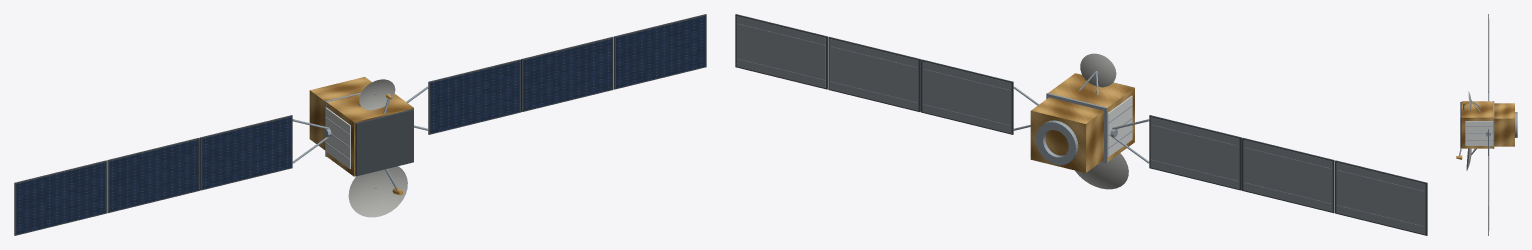
The model's file is ref-eurostar-2000-21813.glb.
The picture shows the model from 3 angles, left to right: view 1: azimuth 30°, elevation 25°; view 2: azimuth 150°, elevation 25°; view 3: azimuth 270°, elevation 25°; orthographic projection. The views are drawn at different scales.
Visible parts, largest first — view 1: Solar cell panel (×6), Solar panel frame (×6), Earth-facing deck, Communications reflector (×2), Payload module, Service module, Radiator face; view 2: Rear array substrate (×6), Solar panel frame (×6), Service module, Communications reflector (×2), Payload module, Launch adapter ring, Radiator face, Module interface; view 3: Service module, Payload module, Radiator face, Communications reflector (×2), Module interface, Earth-facing deck, Launch adapter ring, Solar panel frame.
Part boxes in pixels (x1,y1,x2,y2): Solar cell panel (×6): (16, 16, 705, 234); Solar panel frame (×6): (14, 14, 706, 235); Earth-facing deck: (355, 109, 413, 176); Communications reflector (×2): (348, 79, 407, 217); Payload module: (326, 94, 413, 176); Service module: (309, 77, 371, 150); Radiator face: (325, 107, 350, 168); Rear array substrate (×6): (736, 16, 1425, 234); Solar panel frame (×6): (735, 14, 1427, 235); Service module: (1030, 97, 1103, 172); Communications reflector (×2): (1075, 53, 1128, 189); Payload module: (1048, 73, 1134, 161); Launch adapter ring: (1036, 120, 1078, 165); Radiator face: (1107, 95, 1132, 157); Module interface: (1046, 93, 1107, 163); Service module: (1494, 103, 1514, 146); Payload module: (1461, 101, 1492, 148); Radiator face: (1465, 121, 1493, 145); Communications reflector (×2): (1466, 91, 1471, 170); Module interface: (1493, 101, 1494, 148); Earth-facing deck: (1460, 102, 1461, 147); Launch adapter ring: (1515, 112, 1517, 137); Solar panel frame: (1488, 180, 1488, 235).
Bounding box in the file's own units: 21.97 × 4.11 × 2.97.
Materials: 8 (2 with a texture image).
